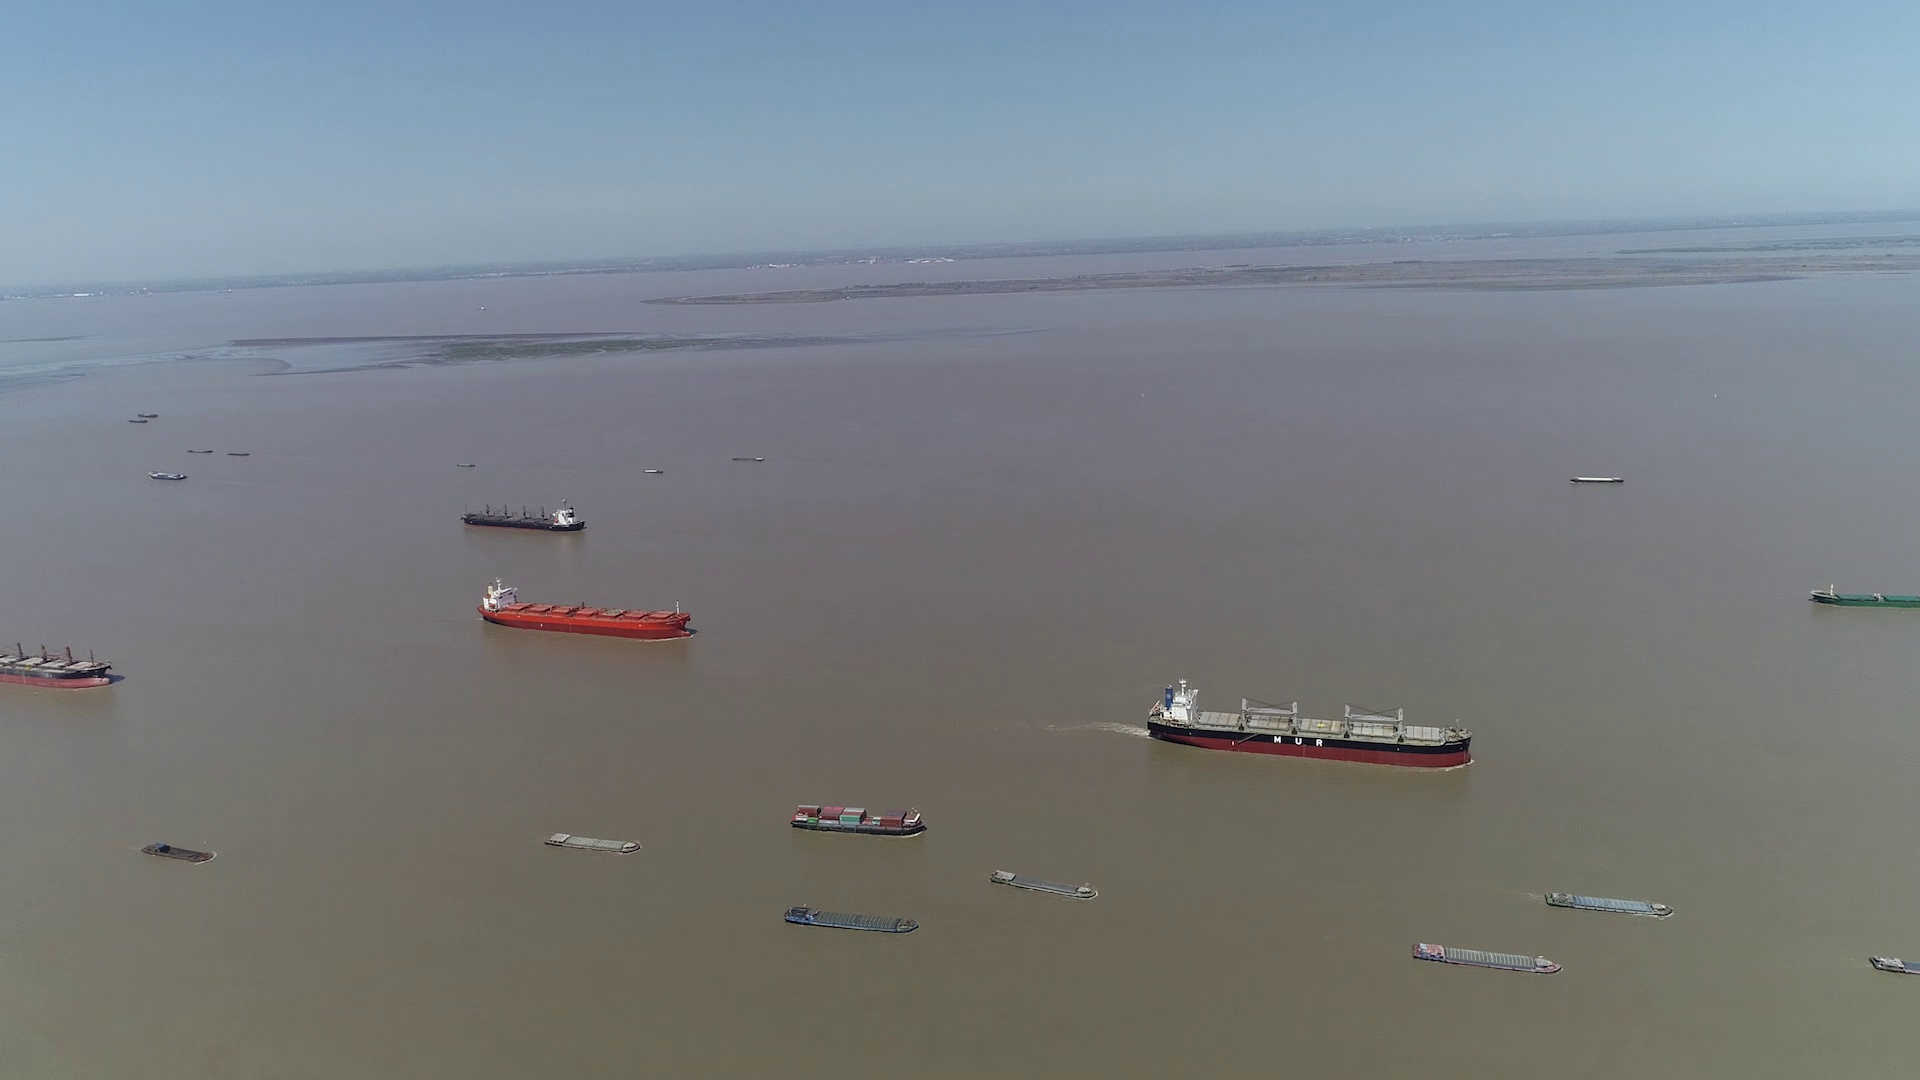ship: (1145, 678, 1470, 767), (483, 579, 691, 641), (0, 628, 117, 691), (1498, 897, 1654, 928), (790, 803, 928, 837), (1414, 943, 1560, 975), (781, 905, 919, 934), (463, 501, 587, 531), (1544, 889, 1673, 916), (989, 868, 1100, 899), (1811, 584, 1920, 609), (543, 831, 640, 855), (141, 843, 214, 862), (1869, 953, 1920, 977), (1571, 473, 1625, 484), (152, 471, 189, 481)
